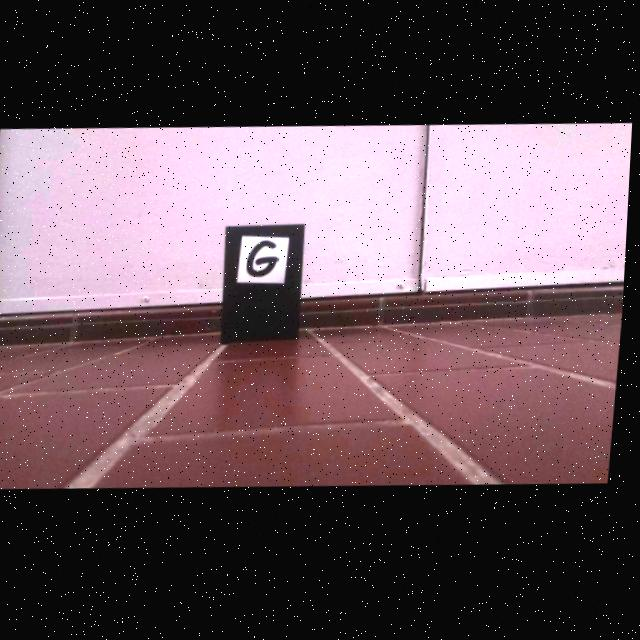G: (250, 243, 281, 279)
